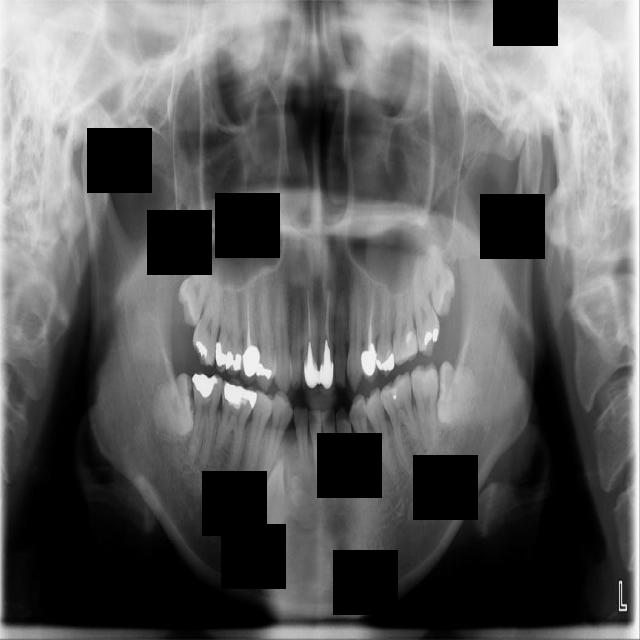3M ESPE Implant: (171, 239, 219, 328)
52: (371, 368, 424, 420), (210, 373, 262, 424), (386, 323, 422, 367), (190, 316, 219, 368), (188, 370, 225, 409), (414, 308, 442, 359), (214, 331, 244, 376), (300, 360, 336, 396), (373, 334, 397, 379), (358, 343, 382, 384), (239, 345, 262, 386), (256, 348, 277, 392)
73: (299, 287, 319, 364), (320, 285, 336, 361), (242, 277, 257, 349), (362, 284, 377, 347), (601, 589, 606, 597)
BioHorizons Implant: (408, 254, 443, 359)
BioLife Implant: (422, 244, 461, 319)
Biomet 3i Implant: (435, 360, 478, 425)
Blue Sky Bio Implant: (409, 361, 445, 452)
Caries: (189, 259, 229, 367)
Implant: (189, 371, 224, 469)
Keystone Dental Implant: (150, 371, 197, 436)
